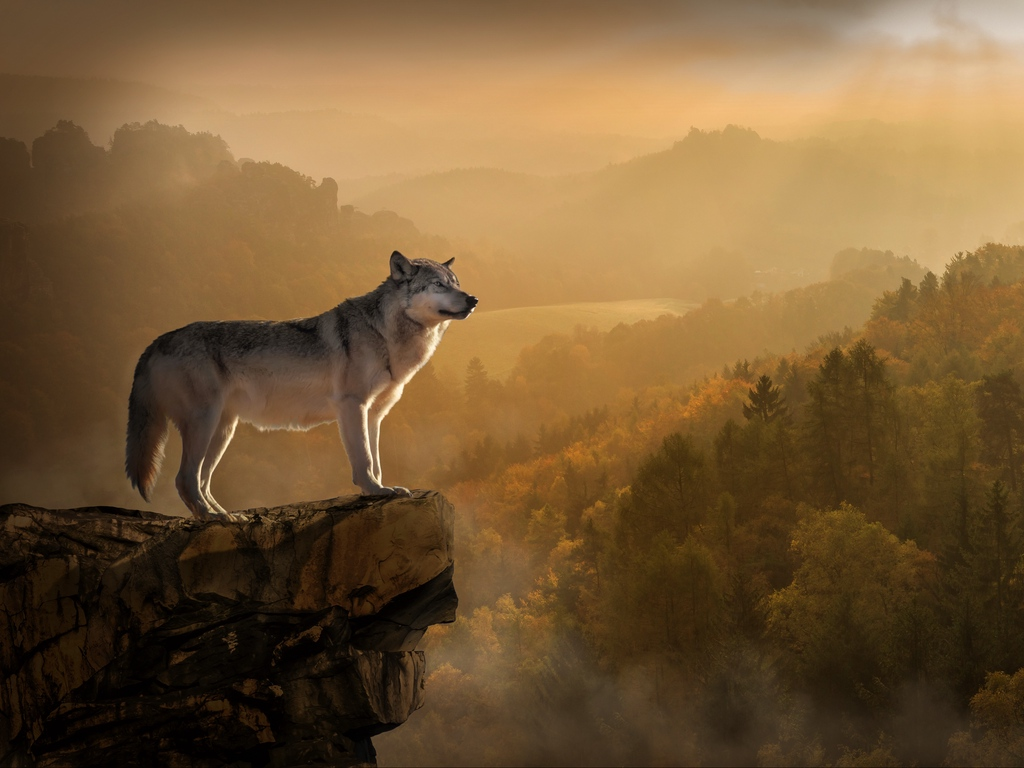wolf: (113, 248, 484, 527)
